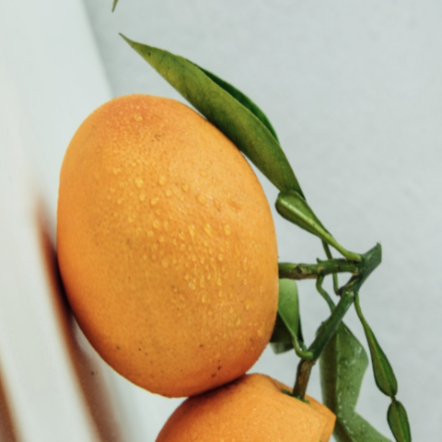orange: (0, 28, 349, 442)
